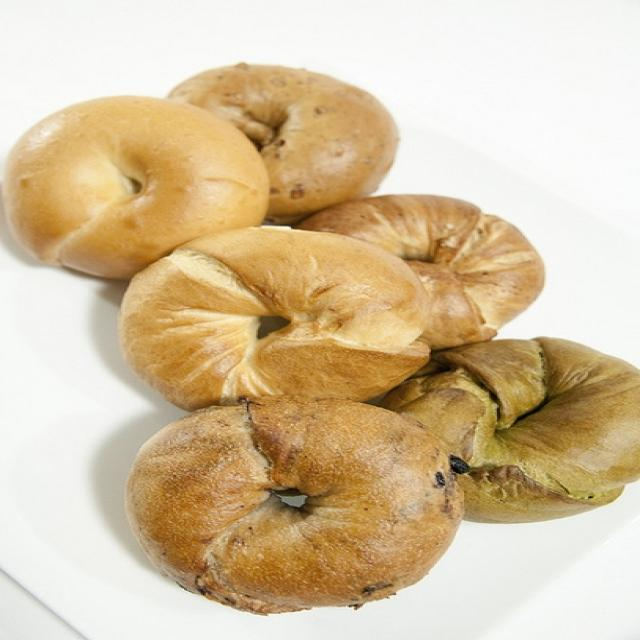面包点心: (4, 26, 634, 621)
